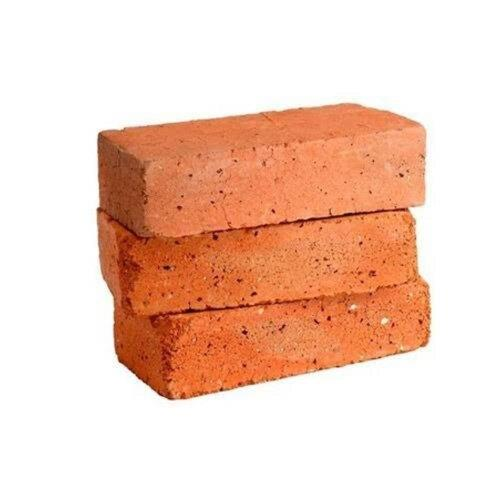brick: (126, 210, 419, 318), (168, 283, 430, 399), (142, 126, 428, 230)
